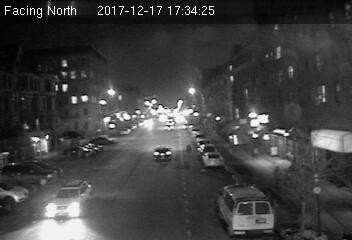car: (43, 178, 96, 221), (152, 145, 174, 161), (203, 152, 223, 167)
police: (215, 182, 273, 237)
